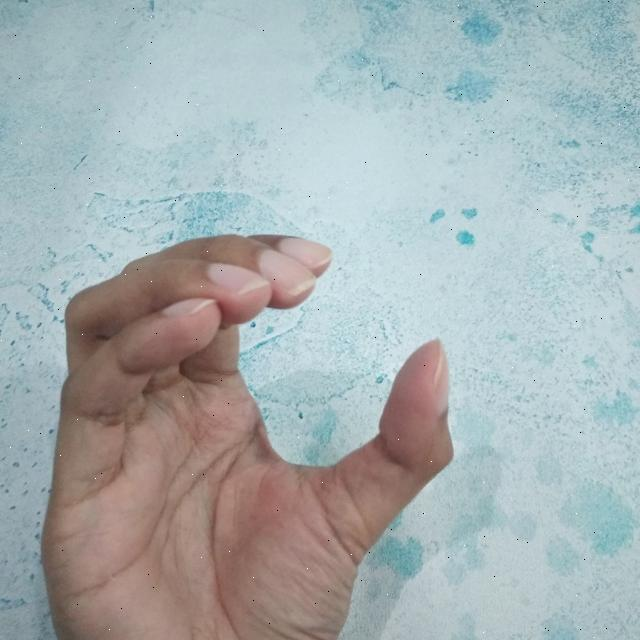C: (34, 232, 465, 640)
